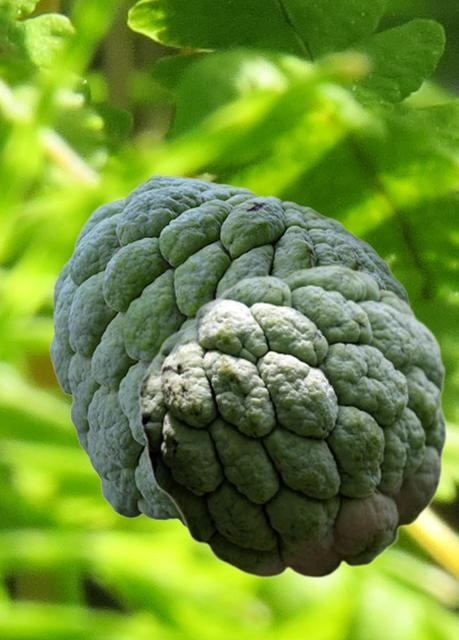atis: (49, 174, 409, 529), (137, 264, 447, 578)
